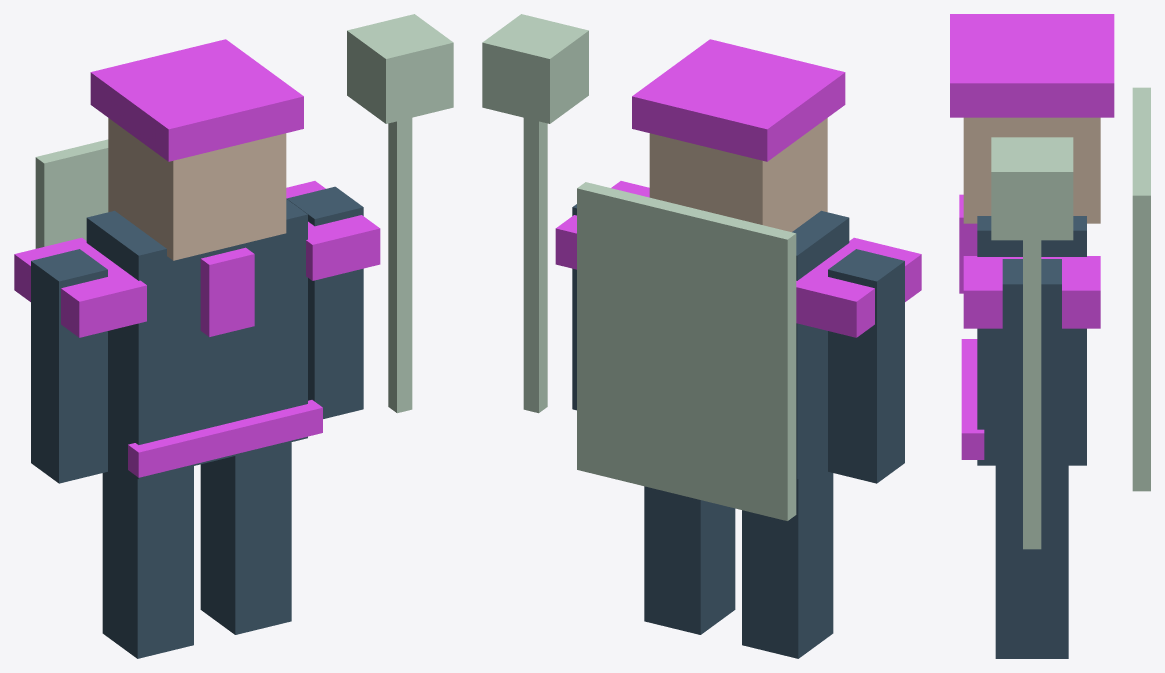
Rendered from 06_ossa_echohand_cartographer_near_emergency.glb.
The picture shows the model from 3 angles, left to right: view 1: azimuth 30°, elevation 25°; view 2: azimuth 150°, elevation 25°; view 3: azimuth 270°, elevation 25°; orthographic projection. The views are drawn at different scales.
Visible parts, largest first — view 1: Ossa Echohand, Cartographer near Emergency; view 2: Ossa Echohand, Cartographer near Emergency; view 3: Ossa Echohand, Cartographer near Emergency.
Part boxes in pixels (left/top/right/bottom): Ossa Echohand, Cartographer near Emergency: left=14, top=14, right=453, bottom=658; Ossa Echohand, Cartographer near Emergency: left=482, top=14, right=921, bottom=658; Ossa Echohand, Cartographer near Emergency: left=950, top=14, right=1150, bottom=658.
Size of the model in its own units: 1.05 by 1.4 by 0.4452.
